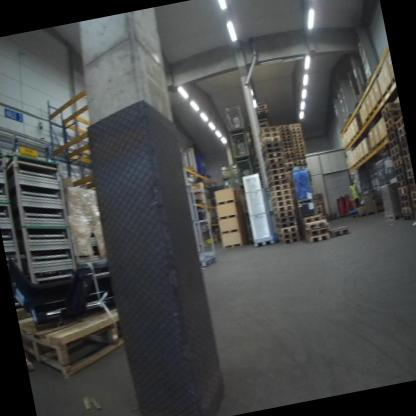pallet: (15, 285, 135, 395), (325, 223, 351, 241), (379, 100, 401, 117), (302, 219, 330, 232), (303, 231, 330, 244), (275, 224, 299, 236), (268, 182, 291, 194), (267, 176, 290, 188), (305, 226, 329, 237), (271, 197, 295, 208), (269, 193, 293, 204), (381, 109, 401, 122), (268, 187, 293, 197), (302, 213, 324, 224), (261, 145, 283, 156), (275, 220, 299, 230), (266, 167, 286, 179), (382, 115, 399, 129), (263, 156, 284, 167), (277, 230, 300, 240), (273, 208, 296, 218), (252, 236, 272, 247), (278, 236, 300, 246), (274, 214, 296, 224), (261, 140, 281, 151), (266, 160, 284, 172), (262, 151, 283, 161), (260, 131, 279, 142), (383, 211, 402, 222), (267, 172, 287, 182), (272, 203, 294, 212), (258, 126, 278, 135), (261, 136, 280, 145), (387, 135, 401, 147), (389, 142, 403, 154), (394, 114, 404, 129), (401, 205, 413, 217), (385, 123, 398, 134), (387, 129, 400, 140), (392, 156, 405, 167), (398, 184, 411, 195), (399, 193, 411, 204), (400, 212, 414, 221), (391, 149, 402, 160), (394, 165, 406, 175), (397, 125, 406, 137), (395, 172, 407, 181), (400, 139, 408, 151), (396, 179, 408, 187), (400, 199, 412, 207), (402, 153, 410, 164), (407, 177, 415, 187), (404, 161, 412, 170), (398, 134, 406, 143), (406, 169, 413, 179), (401, 148, 409, 156), (409, 184, 416, 193), (410, 192, 416, 199), (411, 199, 416, 207), (412, 213, 416, 220), (413, 206, 416, 214)
